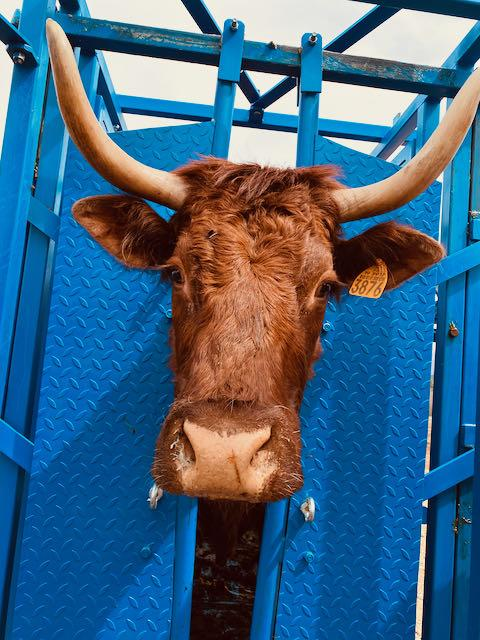muzzles: (145, 413, 305, 508)
